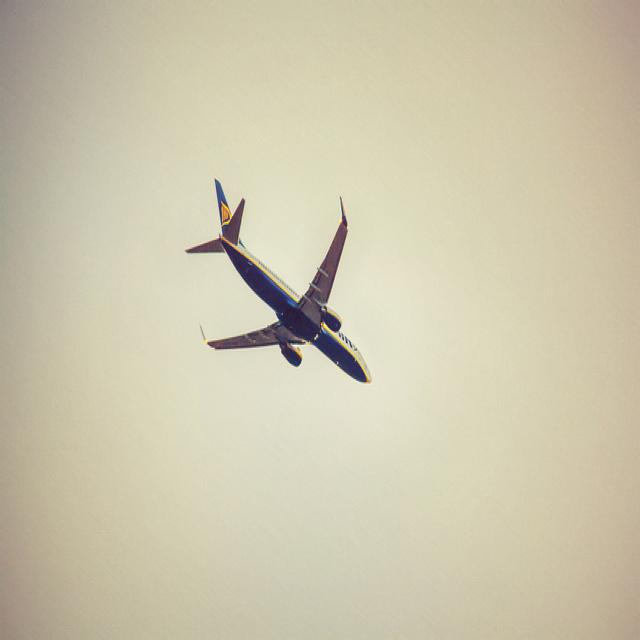airplane: (183, 176, 374, 386)
